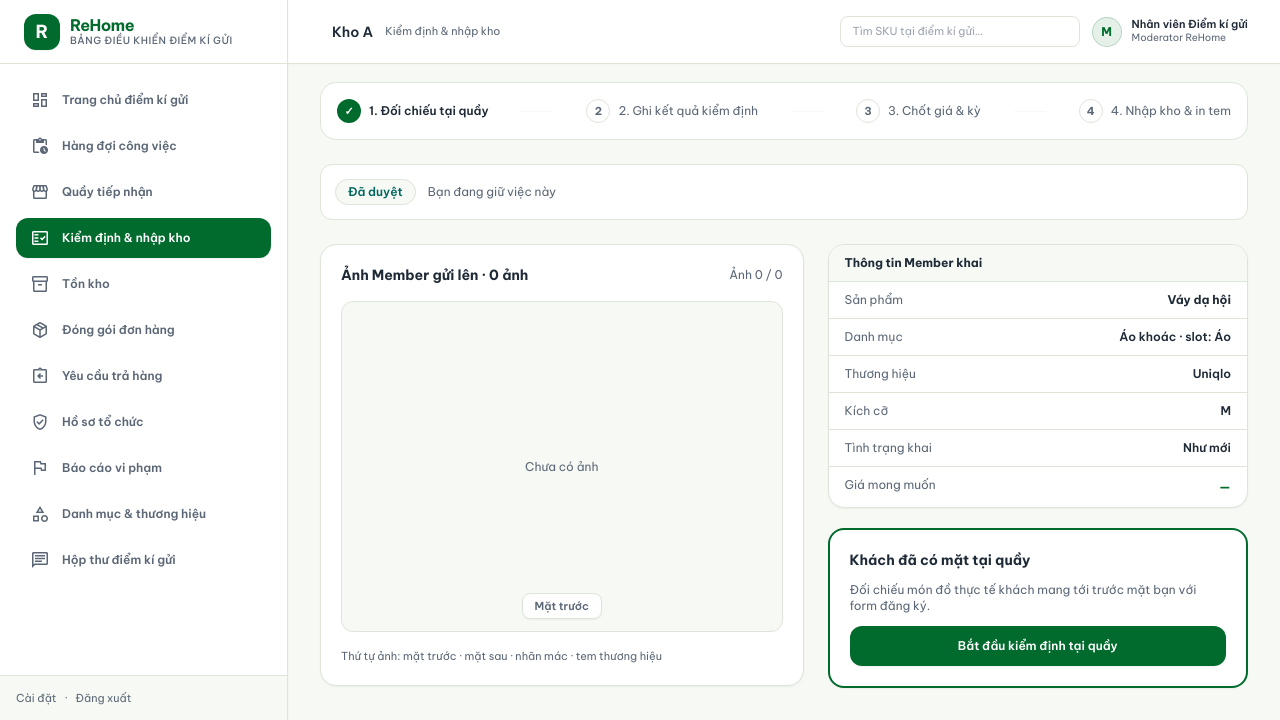
ConsignmentDetailPage component behaviors › starts inspection when member is identified at counter
(page scrolled)
Click the button "Bắt đầu kiểm định tại quầy". click: (1038, 646)
box: top-left (850, 626), bottom-right (1226, 666)
(page scrolled)
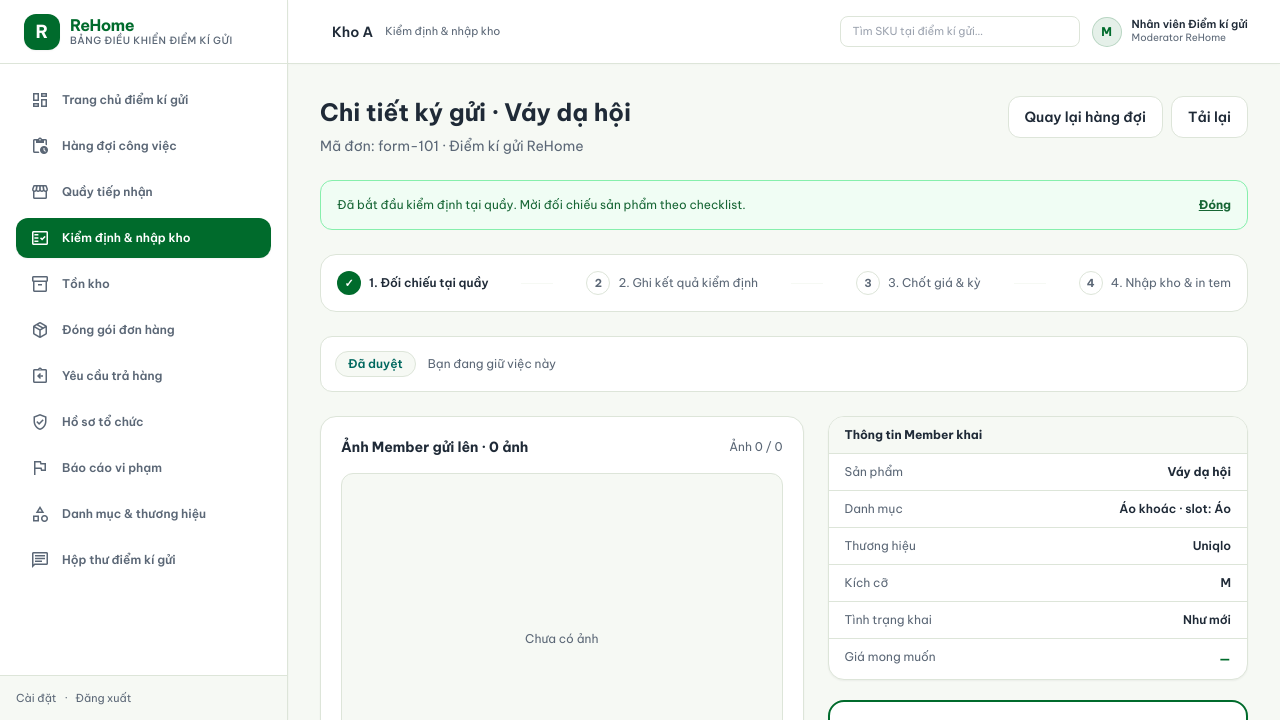
Expected: the text "Đã bắt đầu kiểm định tại quầy" is shown, top-left (337, 197), bottom-right (746, 212)
